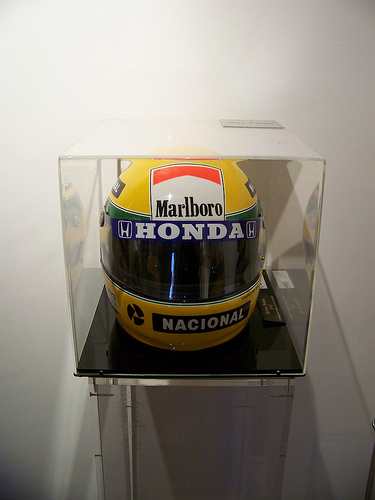helmet: (110, 154, 267, 339)
